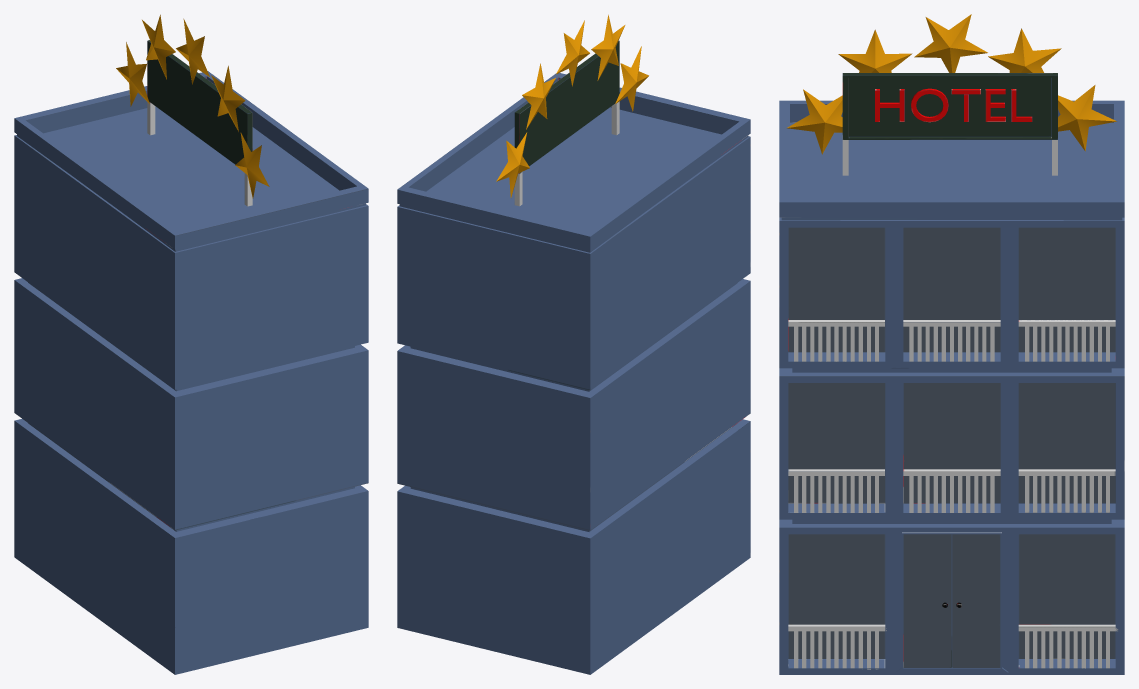
The picture shows the model from 3 angles, left to right: view 1: azimuth 30°, elevation 25°; view 2: azimuth 150°, elevation 25°; view 3: azimuth 270°, elevation 25°; orthographic projection. The views are drawn at different scales.
Visible parts, largest first — view 1: Hotel; view 2: Hotel; view 3: Hotel.
Boxes of the visible parts, x1,y1,x2,y2 form: Hotel: [14, 14, 368, 674]; Hotel: [397, 14, 750, 674]; Hotel: [779, 14, 1124, 674].
Size of the model in its own units: 175 by 488 by 250.
Materials: 1 (1 with a texture image).
